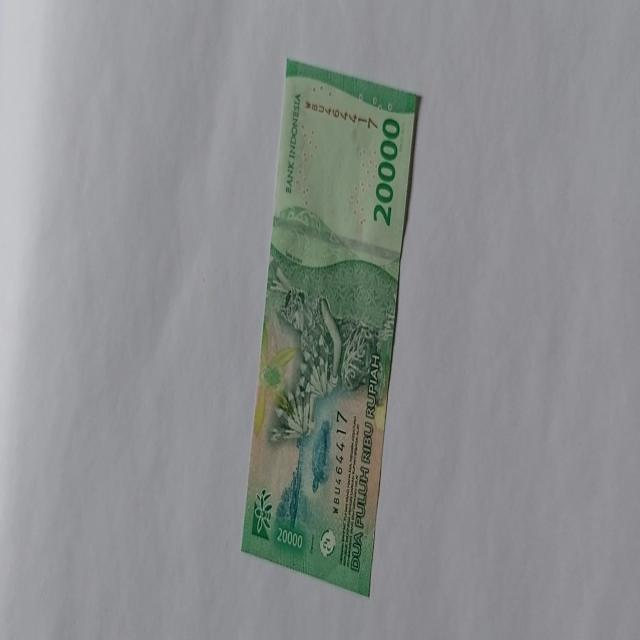dua puluh ribu rupiah: (239, 55, 423, 598)
